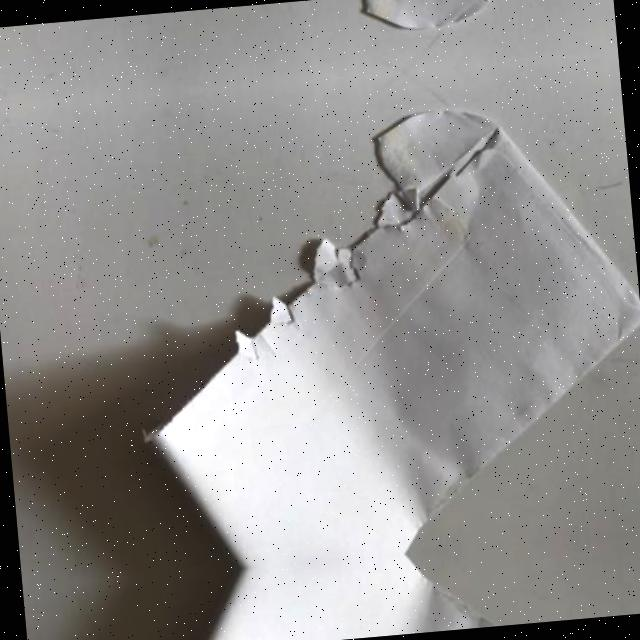paper: (106, 79, 640, 576), (145, 530, 640, 640), (96, 0, 615, 70)
